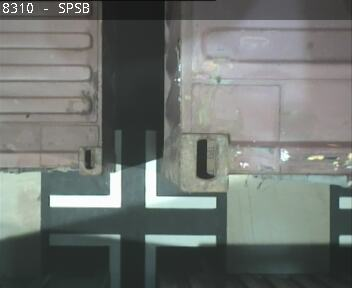groundmarker_1: (49, 130, 216, 209), (48, 233, 215, 288)
